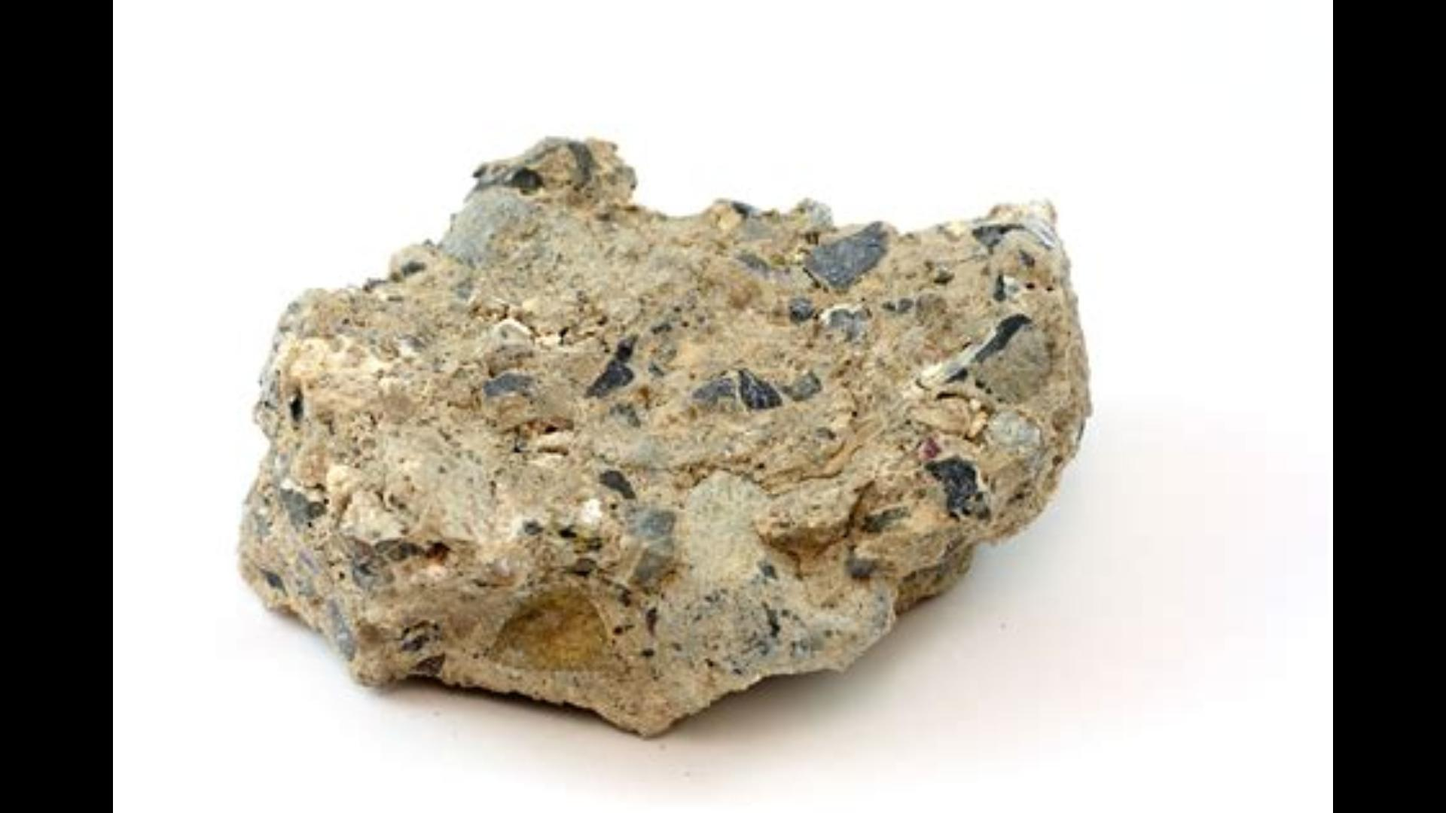rock: (239, 139, 1086, 731)
